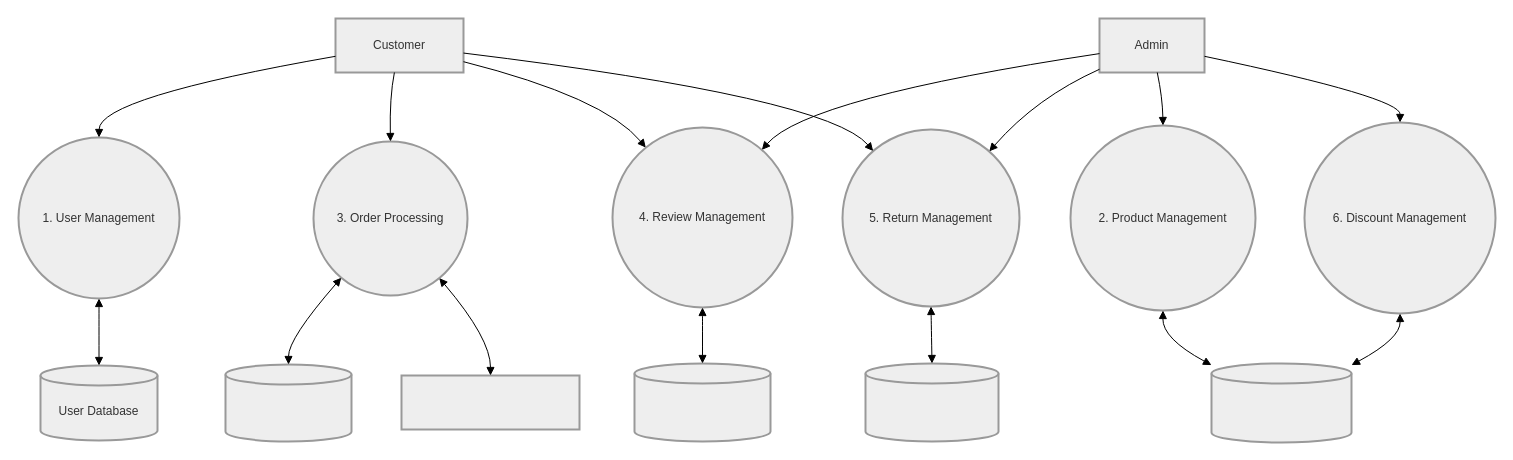
Some shapes in this 1513 by 460 pixel diagram are drawn without their labels. The shapes that lost their labels are listed below. From the top down, each one's box as (x1, y1, x2, y2) in pixels, then its label:
(224, 363, 352, 442): Order Database
(400, 374, 580, 430): Payment Service
(633, 362, 771, 442): Review Database
(864, 362, 999, 442): Return Database
(1210, 362, 1352, 443): Product Database
